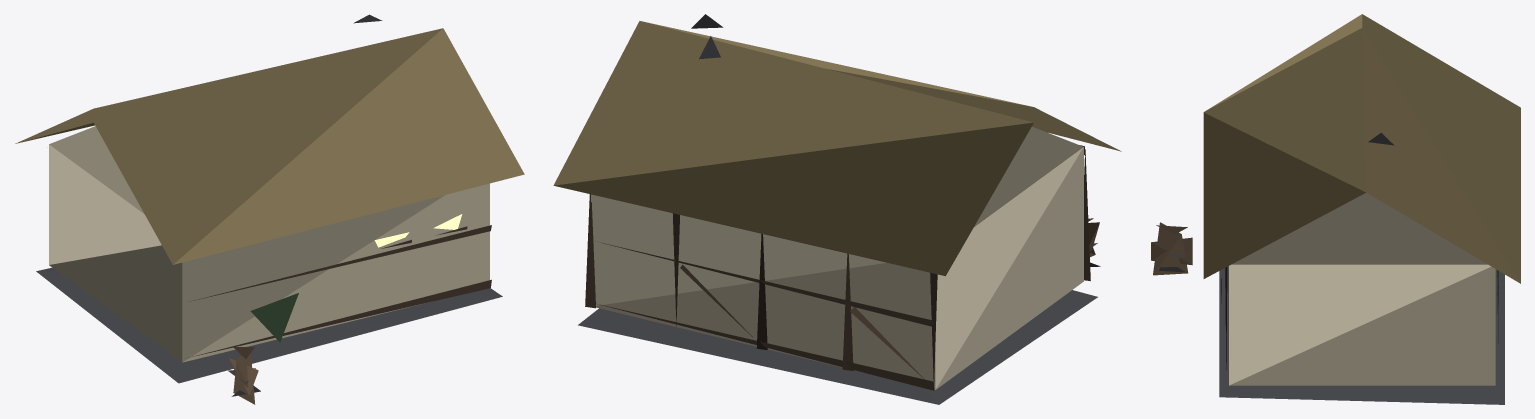
File: bree_house_hobbit_1_lod2.glb
The picture shows the model from 3 angles, left to right: view 1: azimuth 30°, elevation 25°; view 2: azimuth 150°, elevation 25°; view 3: azimuth 270°, elevation 25°; orthographic projection. The views are drawn at different scales.
Parts seen in each view (by area): view 1: bree_house_hobbit_1_lod2; view 2: bree_house_hobbit_1_lod2; view 3: bree_house_hobbit_1_lod2.
Boxes of the visible parts, x1,y1,x2,y2 form: bree_house_hobbit_1_lod2: (15, 14, 524, 404); bree_house_hobbit_1_lod2: (553, 14, 1121, 404); bree_house_hobbit_1_lod2: (1151, 14, 1520, 404).
Bounding box in the file's own units: 6.4 × 4.31 × 5.83.
